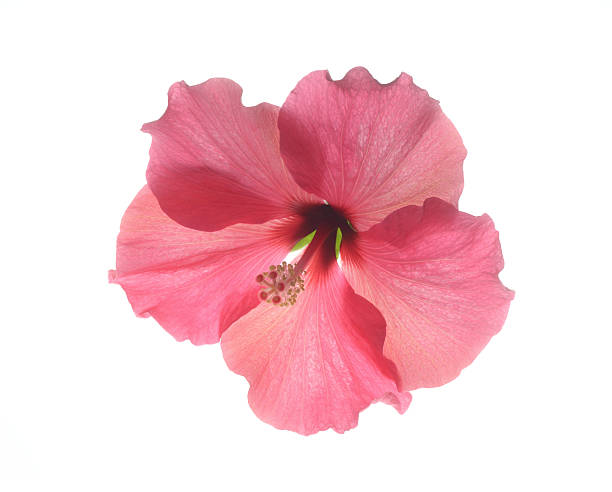Hibiscus: (102, 54, 525, 435)
